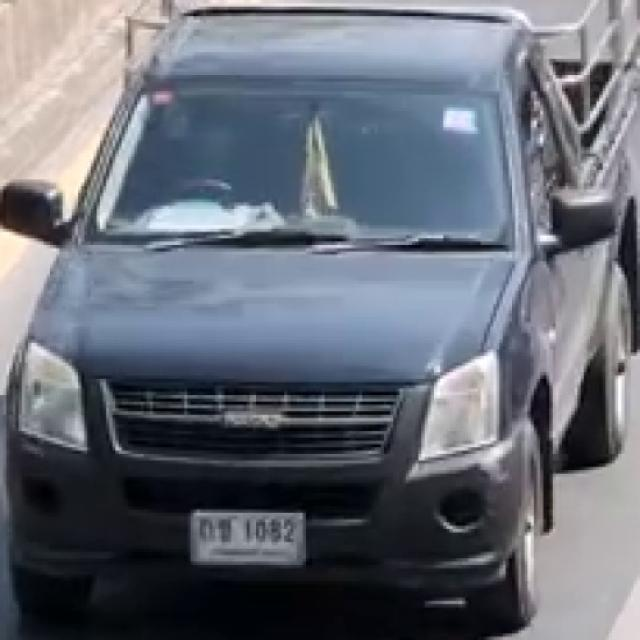plate: (193, 514, 304, 567)
